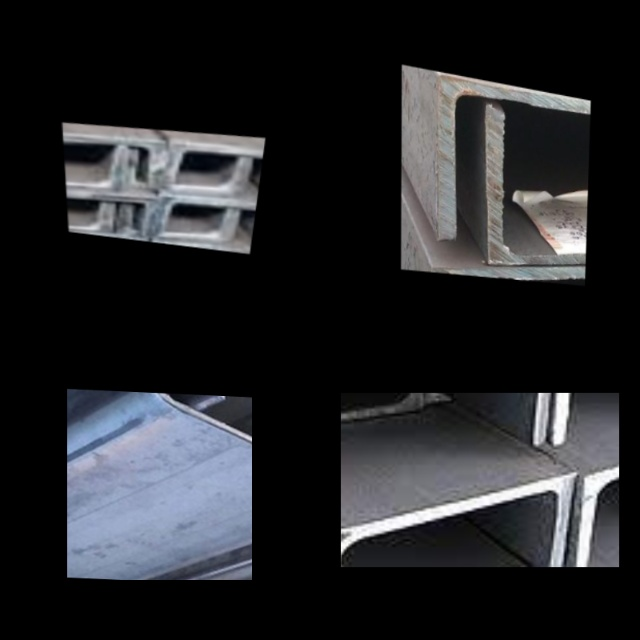Shveller: (444, 73, 591, 247), (341, 393, 556, 487), (341, 481, 566, 565), (490, 101, 590, 268), (147, 393, 252, 492), (434, 244, 586, 286), (131, 146, 248, 200), (63, 131, 165, 191), (123, 196, 236, 246), (168, 139, 264, 197), (159, 191, 257, 247), (581, 430, 619, 558), (67, 188, 156, 240), (217, 396, 252, 497), (64, 142, 125, 192), (561, 393, 619, 439), (505, 268, 585, 286)
